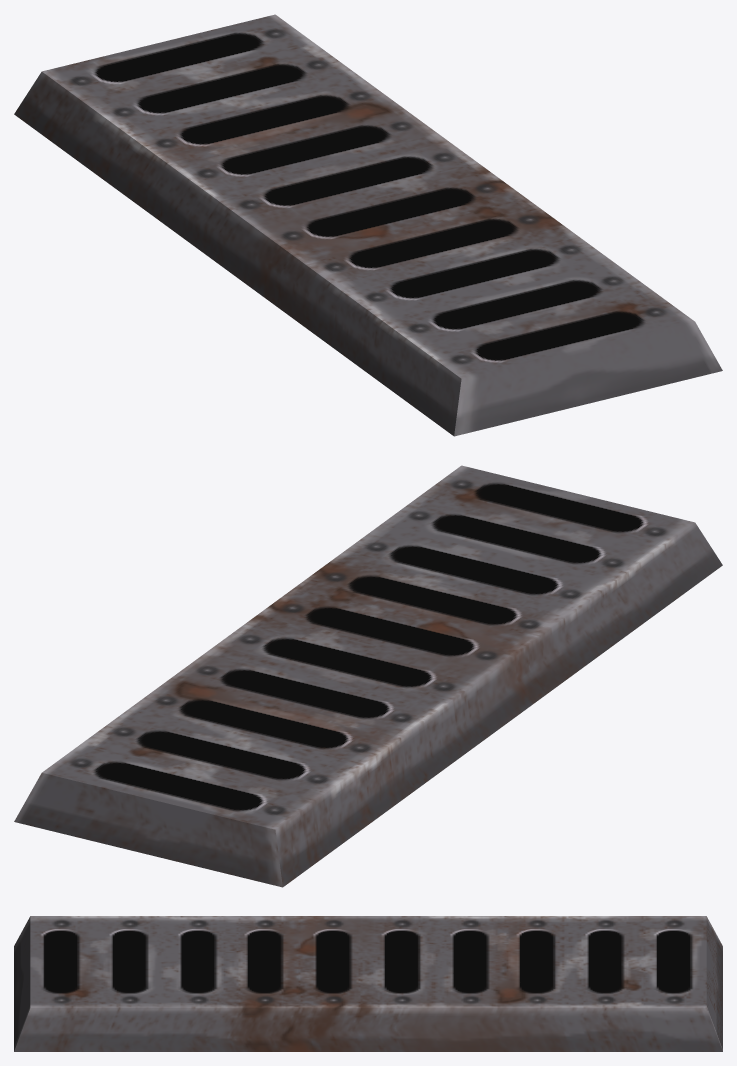
Rendered from TRF0210029.fbx.
3 views of the same model, one above another, from view 1: azimuth 30°, elevation 25°; view 2: azimuth 150°, elevation 25°; view 3: azimuth 270°, elevation 25° (orthographic). The views are drawn at different scales.
Parts seen in each view (by area): view 1: smTRF0210029; view 2: smTRF0210029; view 3: smTRF0210029.
Boxes of the visible parts, <box> form: smTRF0210029: <box>14,14,722,436</box>; smTRF0210029: <box>14,465,722,887</box>; smTRF0210029: <box>14,916,722,1051</box>.
Bounding box in the file's own units: 30.57 × 5 × 86.68.
Materials: 1 (1 with a texture image).
